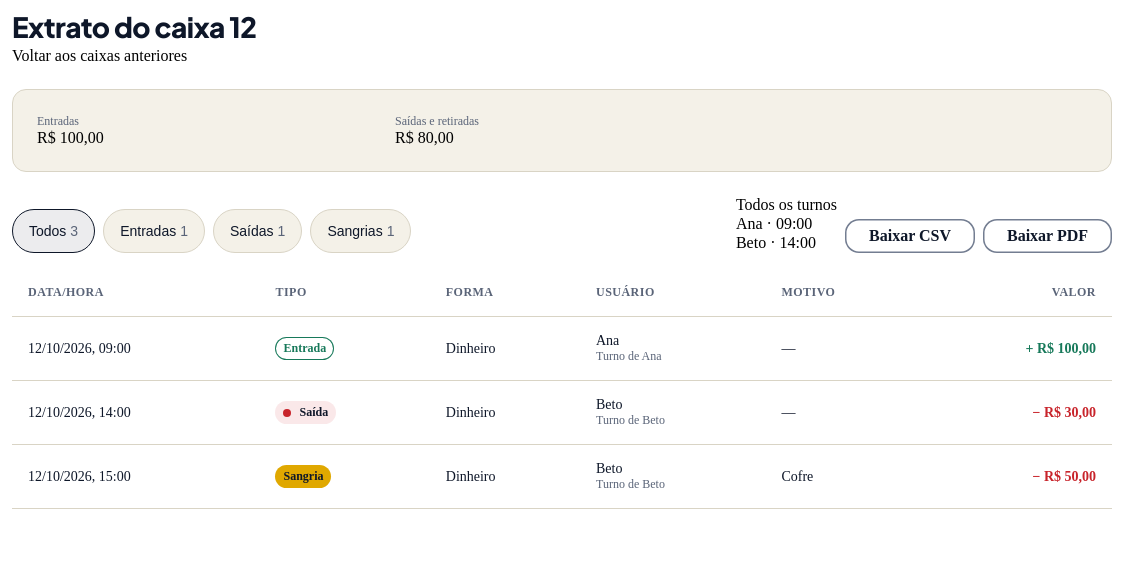
Test: ExtratoCaixaPage › falha ao gerar o PDF avisa e mantém o extrato
The image size is (1129, 584).
Click the button "Baixar PDF": (1048, 236) x1=983 y1=219 x2=1112 y2=253
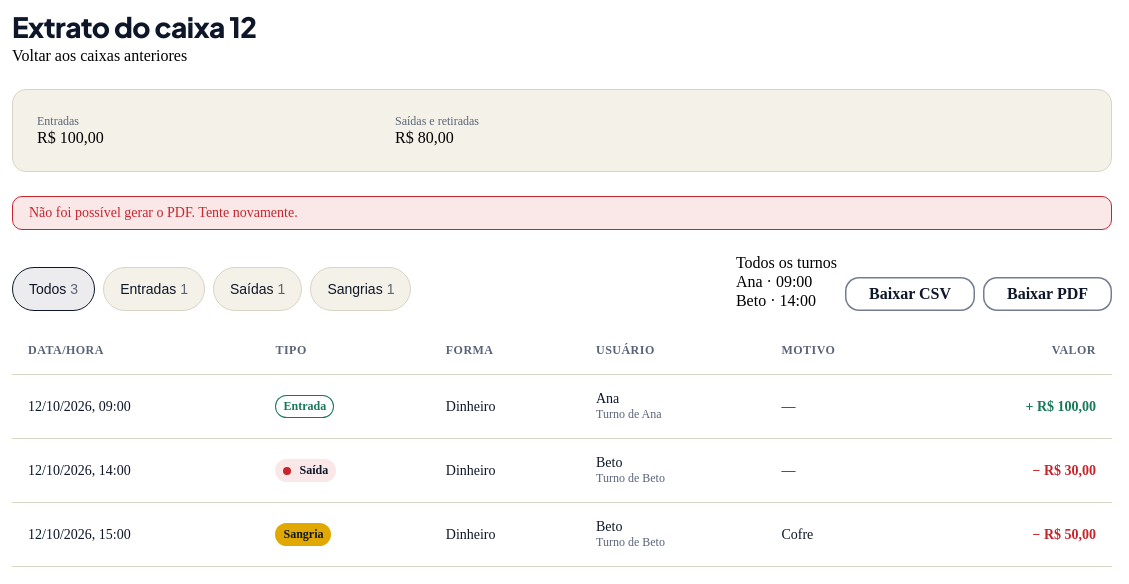
Expected: the message shows "Não foi possível gerar o PDF", x1=29 y1=205 x2=298 y2=220
